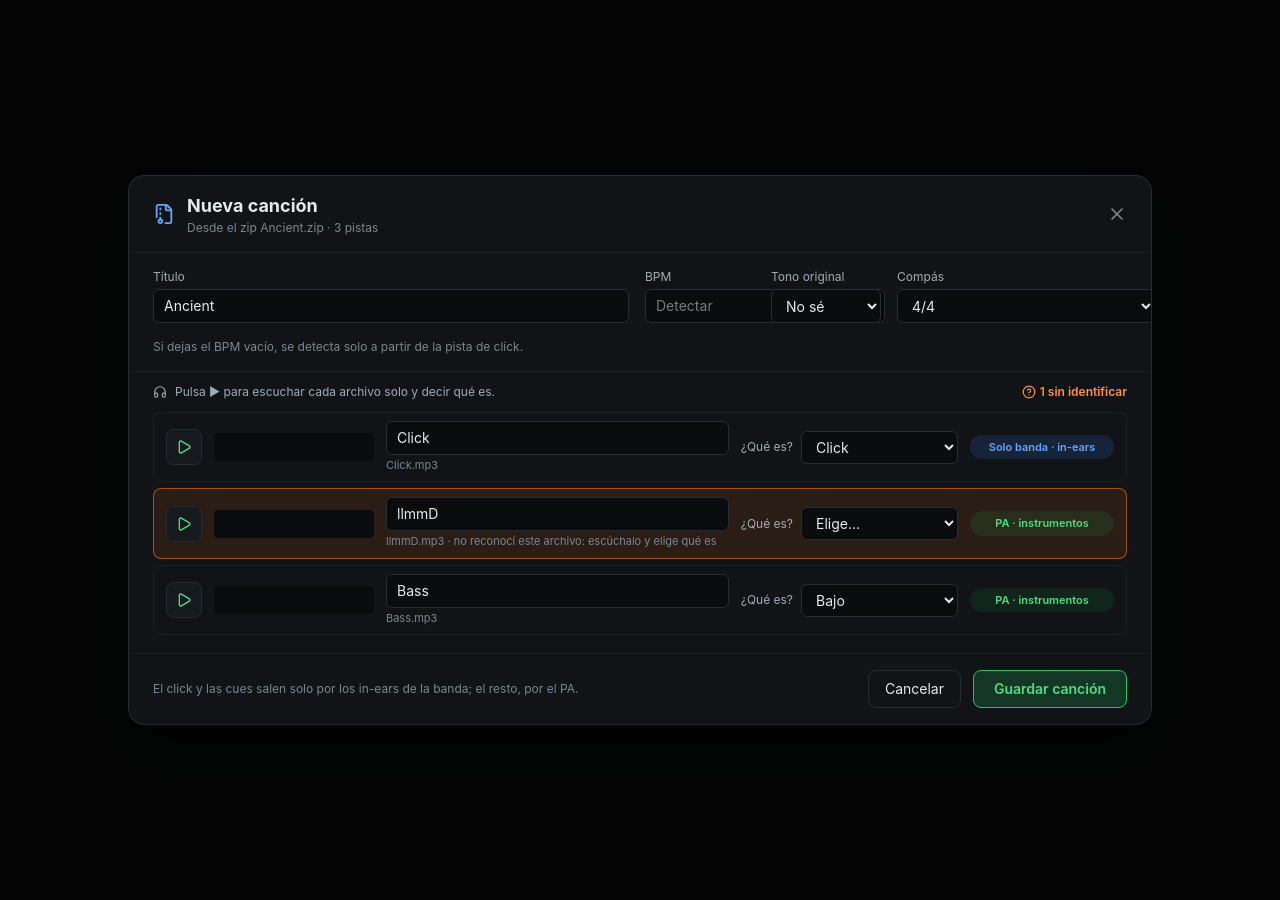
Test: import dialog › rejects an invalid BPM
Type "5" into the field labelled "BPM" at (765, 306), box [645,289,885,323]
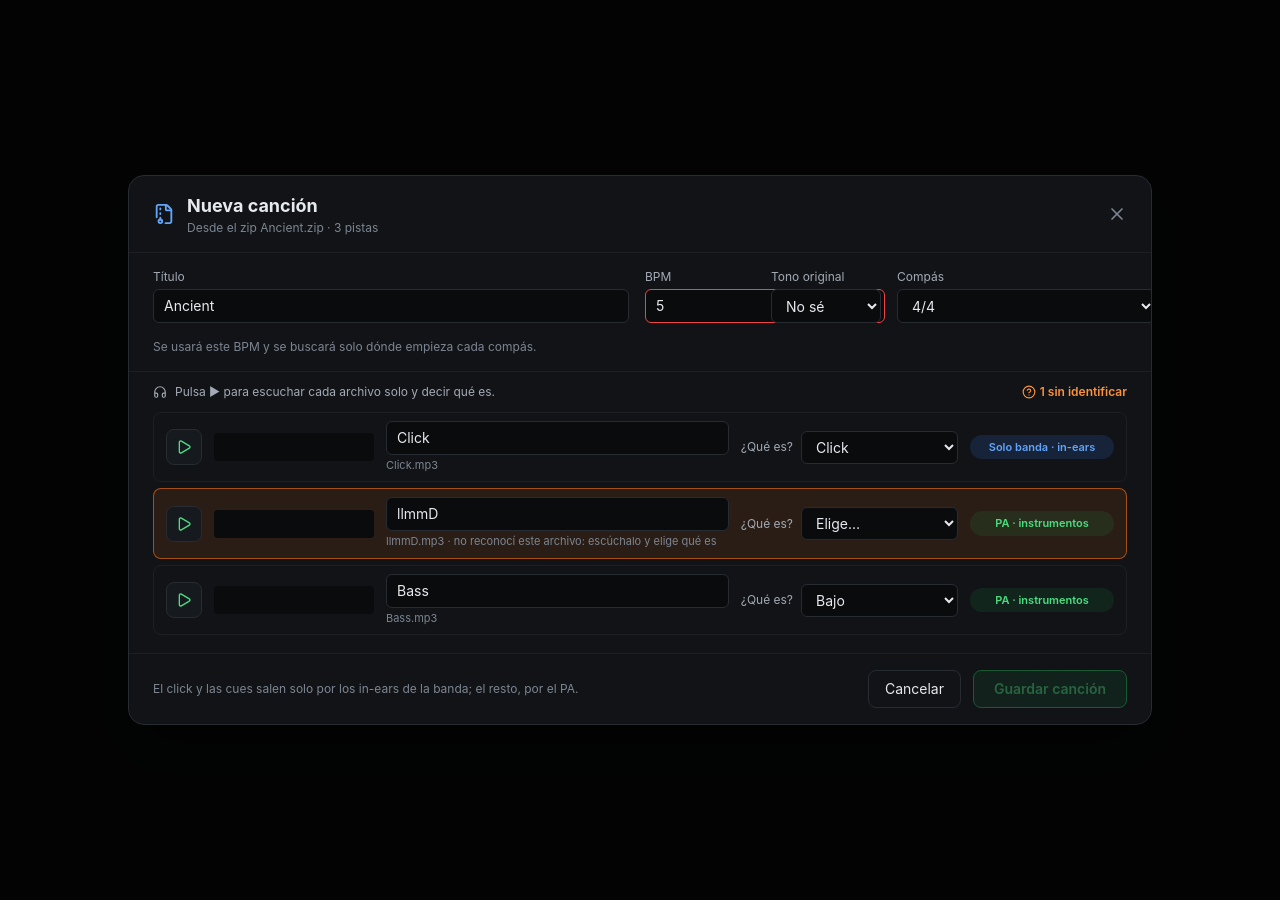
Result: the button "Guardar canción" is disabled at [973,670,1127,708]
